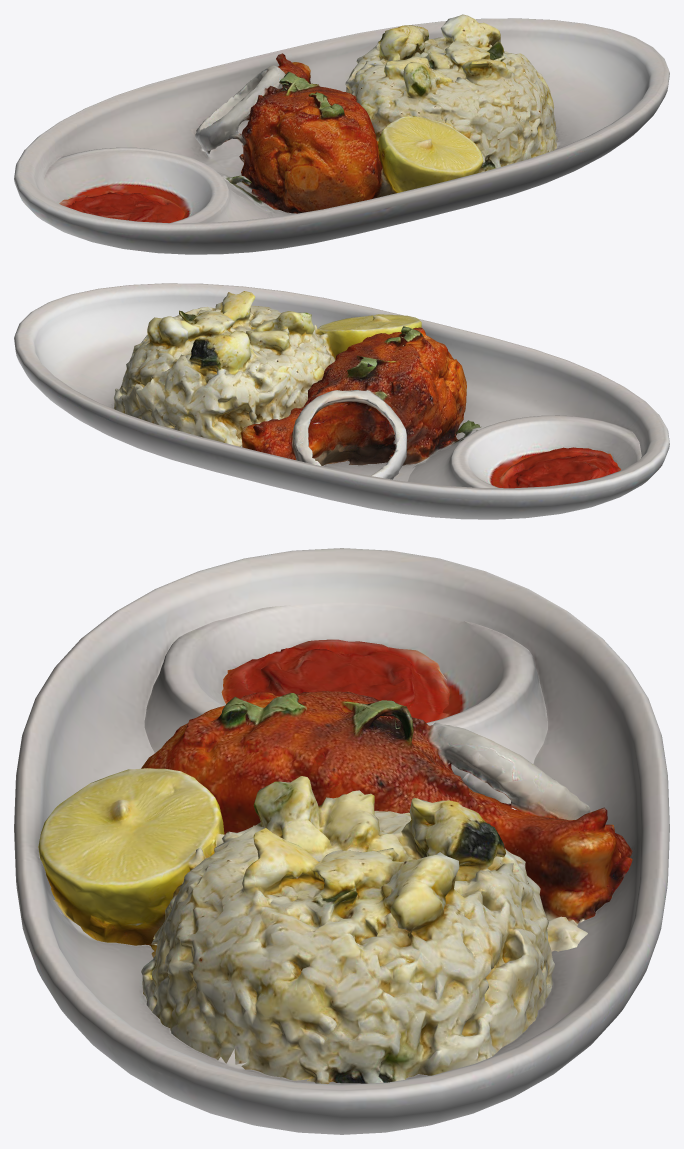
Rendered from chickenmeal_Emb.gltf.
3 views of the same model, one above another, from view 1: azimuth 30°, elevation 25°; view 2: azimuth 150°, elevation 25°; view 3: azimuth 270°, elevation 25° (orthographic). The views are drawn at different scales.
Parts seen in each view (by area): view 1: Mesh_2, Mesh_1; view 2: Mesh_2, Mesh_1; view 3: Mesh_1, Mesh_2.
Part boxes in pixels (x1,y1,x2,y2): Mesh_2: [14, 18, 669, 254]; Mesh_1: [195, 14, 557, 213]; Mesh_2: [14, 283, 669, 519]; Mesh_1: [113, 291, 483, 479]; Mesh_1: [38, 691, 632, 1083]; Mesh_2: [14, 548, 669, 1134].
Bounding box in the file's own units: 0.3694 × 0.0594 × 0.1865.
1 material, 1 textured.
